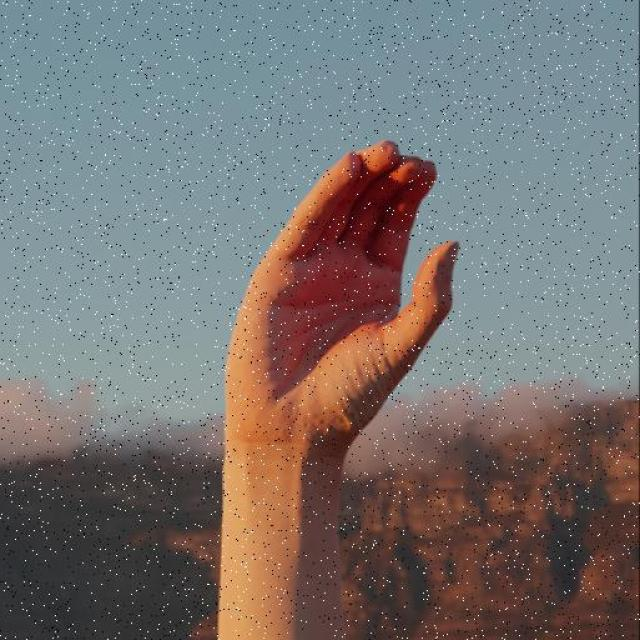C: (196, 126, 469, 498)
